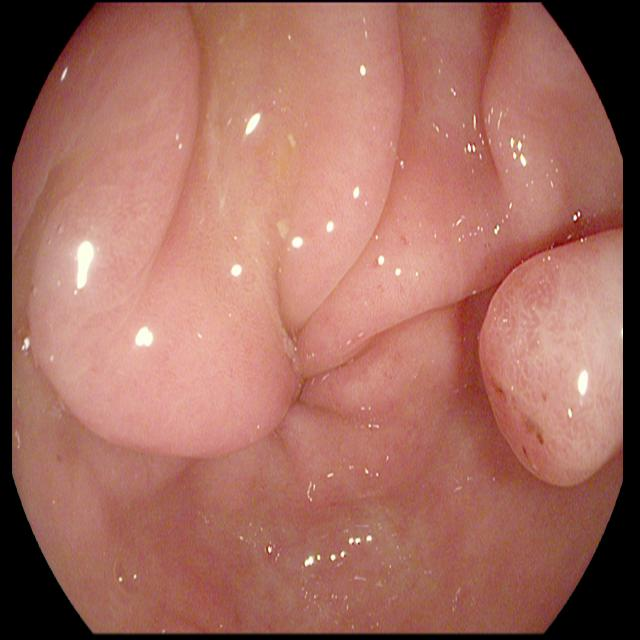normal-pylorus: (456, 219, 630, 519)
